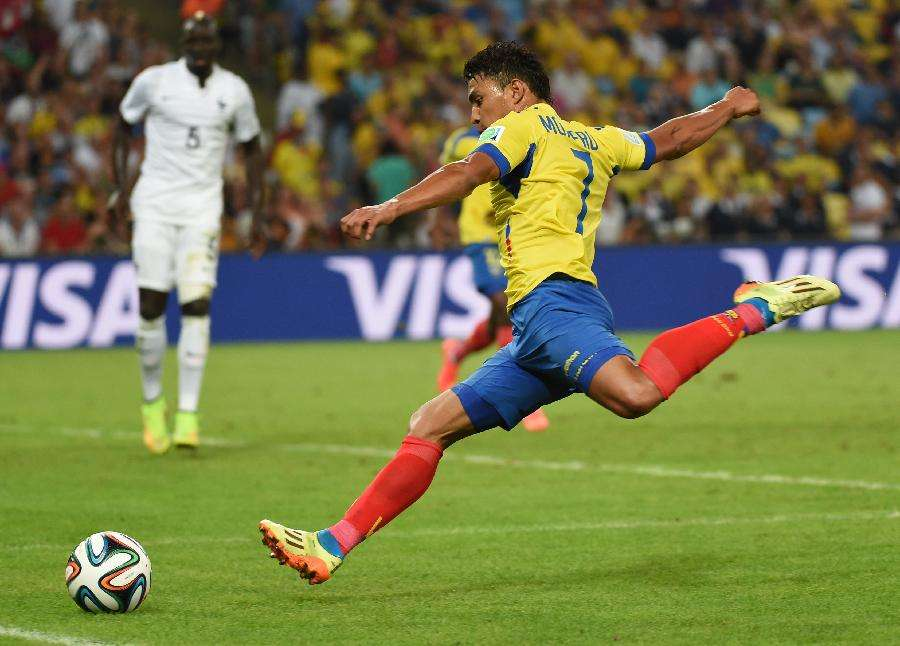football: (64, 530, 153, 619)
